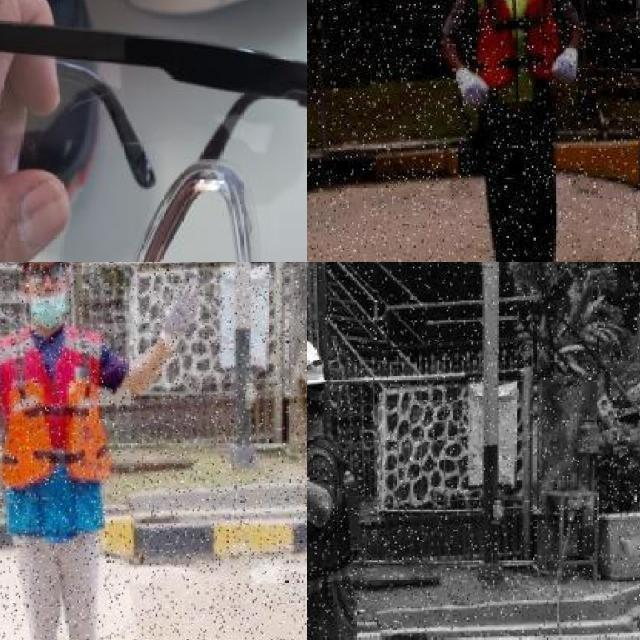apron: (154, 276, 205, 348), (451, 61, 494, 116), (547, 41, 581, 88)
